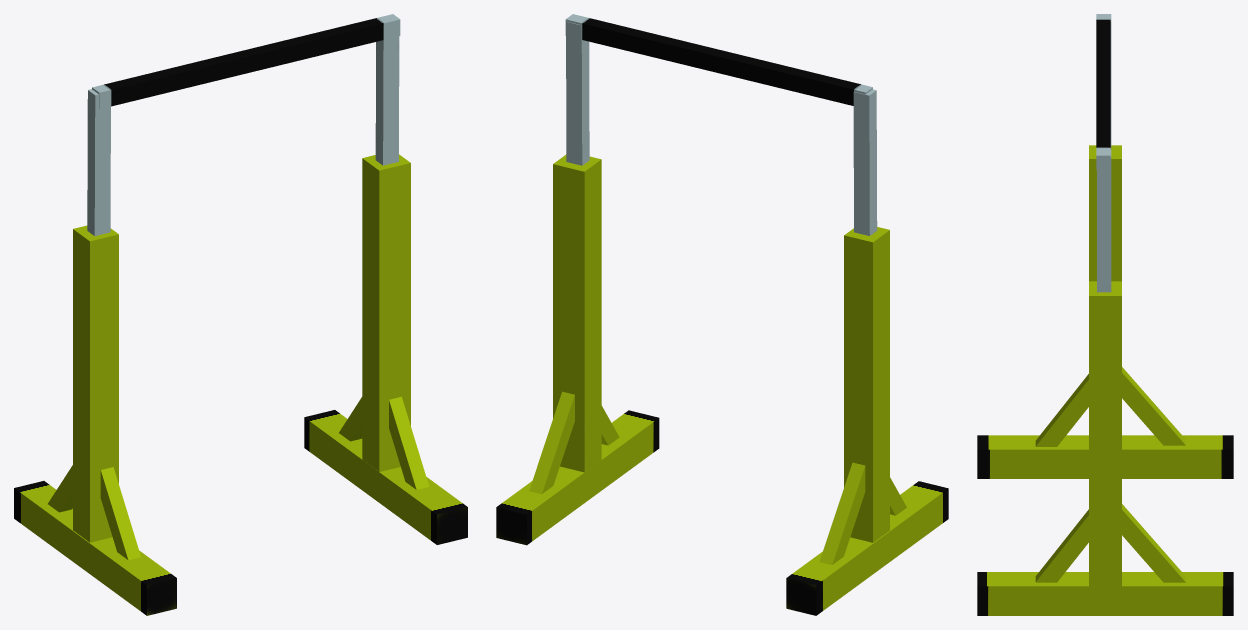
Rendered from textured_props_horizontal_bar_high001.fbx.
3 renders of one model, left to right at view 1: azimuth 30°, elevation 25°; view 2: azimuth 150°, elevation 25°; view 3: azimuth 270°, elevation 25°, orthographic. The views are drawn at different scales.
Parts seen in each view (by area): view 1: pasted__pCube1, pCube1, pasted__pCube2, pCube2, pCube3, pasted__pCube3, pasted__pasted__pCube3, pasted__pCube3.001, pasted__pasted__pCube3.001, pasted__pasted__pasted__pasted__pCube3, pasted__pasted__pasted__pCube3; view 2: pasted__pCube1, pCube1, pasted__pCube2, pCube2, pCube3, pasted__pCube3, pasted__pasted__pCube3, pasted__pasted__pasted__pasted__pCube3, pasted__pasted__pasted__pCube3; view 3: pasted__pCube2, pasted__pCube1, pCube2, pCube1, pCube3, pasted__pasted__pCube3, pasted__pasted__pasted__pCube3, pasted__pasted__pasted__pasted__pCube3, pasted__pasted__pCube3.001, pasted__pCube3.001.
Part boxes in pixels (x1,y1,x2,y2): pasted__pCube1: [362, 154, 410, 471]; pCube1: [73, 225, 118, 542]; pasted__pCube2: [304, 410, 467, 544]; pCube2: [14, 481, 176, 615]; pCube3: [92, 14, 400, 109]; pasted__pCube3: [87, 89, 110, 235]; pasted__pasted__pCube3: [375, 36, 399, 165]; pasted__pCube3.001: [100, 467, 140, 560]; pasted__pasted__pCube3.001: [389, 396, 429, 489]; pasted__pasted__pasted__pasted__pCube3: [48, 465, 72, 512]; pasted__pasted__pasted__pCube3: [339, 397, 362, 441]; pasted__pCube1: [553, 154, 601, 472]; pCube1: [844, 227, 889, 542]; pasted__pCube2: [496, 410, 659, 545]; pCube2: [786, 481, 948, 615]; pCube3: [565, 14, 872, 105]; pasted__pCube3: [853, 89, 877, 235]; pasted__pasted__pCube3: [566, 21, 589, 165]; pasted__pasted__pasted__pasted__pCube3: [819, 462, 865, 564]; pasted__pasted__pasted__pCube3: [529, 391, 574, 494]; pasted__pCube2: [977, 572, 1233, 615]; pasted__pCube1: [1089, 281, 1121, 589]; pCube2: [977, 435, 1233, 478]; pCube1: [1089, 145, 1121, 281]; pCube3: [1096, 14, 1110, 171]; pasted__pasted__pCube3: [1097, 150, 1111, 292]; pasted__pasted__pasted__pCube3: [1122, 504, 1185, 582]; pasted__pasted__pasted__pasted__pCube3: [1122, 367, 1185, 445]; pasted__pasted__pCube3.001: [1035, 509, 1088, 582]; pasted__pCube3.001: [1035, 374, 1088, 446].
Size of the model in its own units: 4.06 by 5.72 by 2.9.
